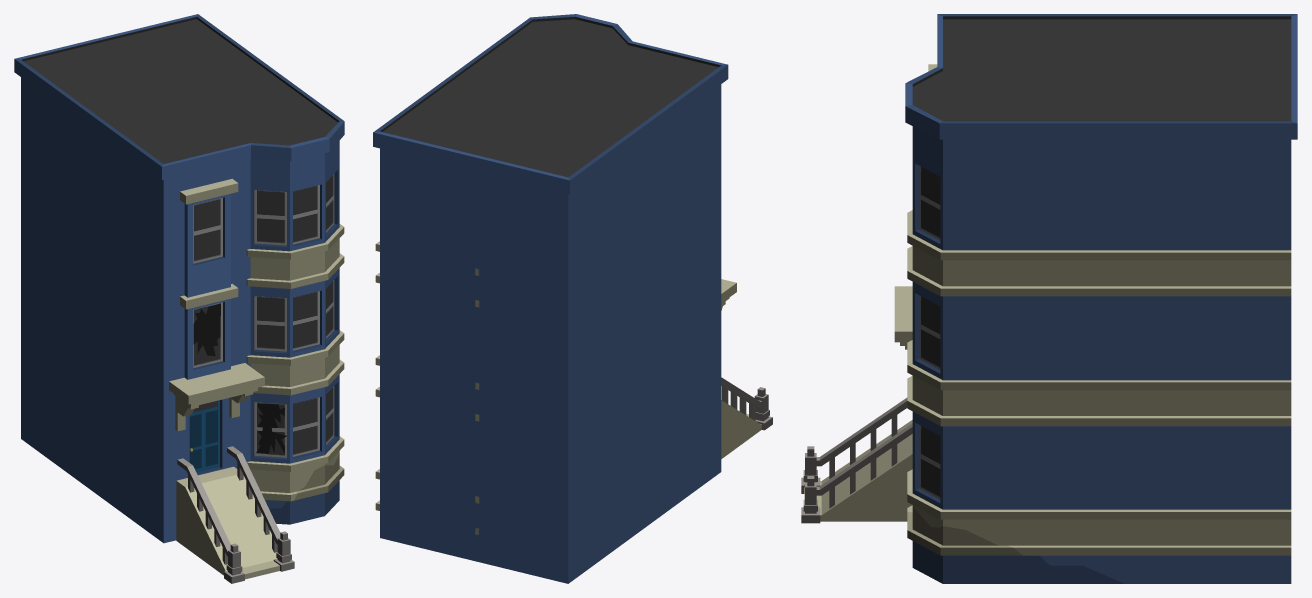
Rendered from SA_Bld_TownHouse_02.glb.
3 views of the same model, side by side, from view 1: azimuth 30°, elevation 25°; view 2: azimuth 150°, elevation 25°; view 3: azimuth 270°, elevation 25° (orthographic). The views are drawn at different scales.
Visible parts, largest first — view 1: SA_Bld_TownHouse_02; view 2: SA_Bld_TownHouse_02; view 3: SA_Bld_TownHouse_02.
Part boxes in pixels (<box>): SA_Bld_TownHouse_02: <box>14,14,344,583</box>; SA_Bld_TownHouse_02: <box>373,14,772,583</box>; SA_Bld_TownHouse_02: <box>801,14,1297,583</box>.
Size of the model in its own units: 3.95 by 7.8 by 7.57.
1 material, 1 textured.
